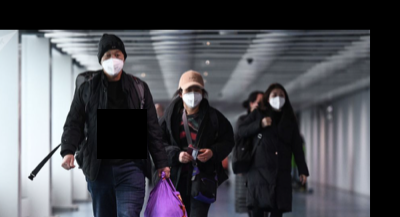with_mask: (100, 48, 125, 76), (182, 85, 202, 108), (268, 89, 286, 109)
